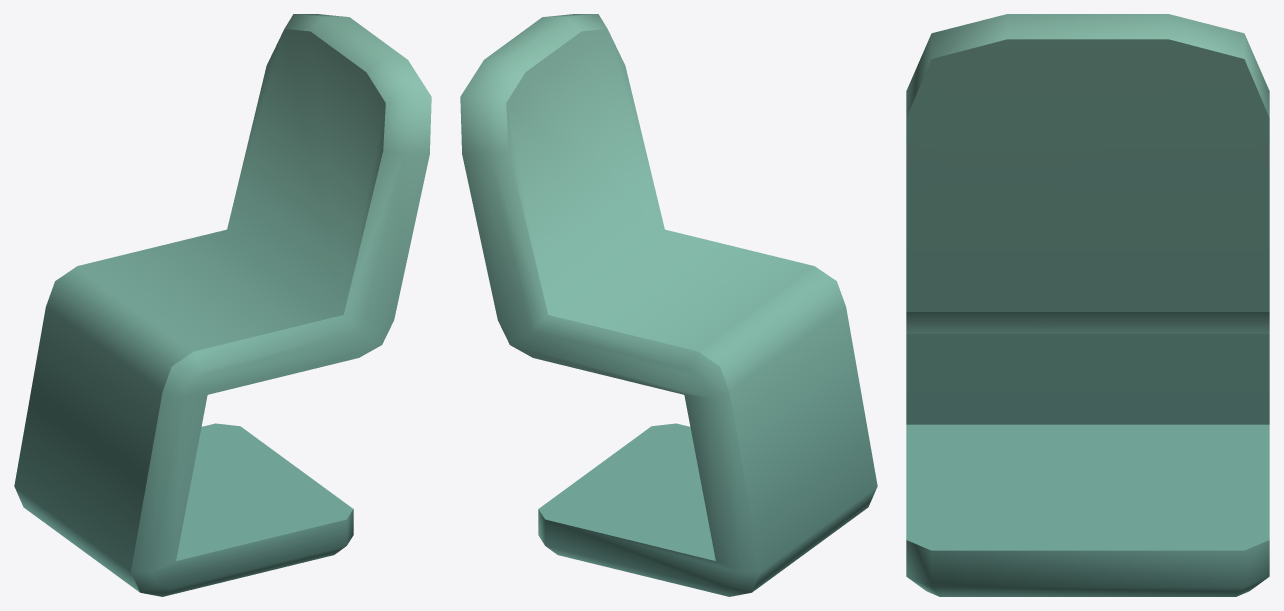
Rendered from modern-chair.glb.
The picture shows the model from 3 angles, left to right: view 1: azimuth 30°, elevation 25°; view 2: azimuth 150°, elevation 25°; view 3: azimuth 270°, elevation 25°; orthographic projection. The views are drawn at different scales.
Parts seen in each view (by area): view 1: modern-chair; view 2: modern-chair; view 3: modern-chair.
Part boxes in pixels (x1,y1,x2,y2): modern-chair: (14, 14, 431, 596); modern-chair: (460, 14, 877, 596); modern-chair: (906, 14, 1269, 596).
Size of the model in its own units: 0.4851 by 0.6886 by 0.36.
